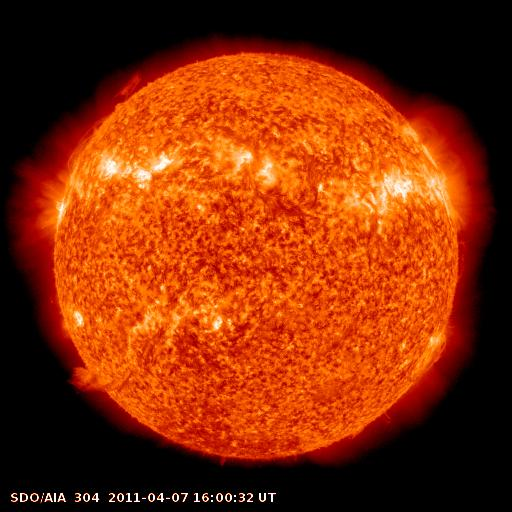prominence: (60, 64, 149, 171), (54, 356, 129, 409), (404, 322, 459, 386), (449, 233, 474, 284)
